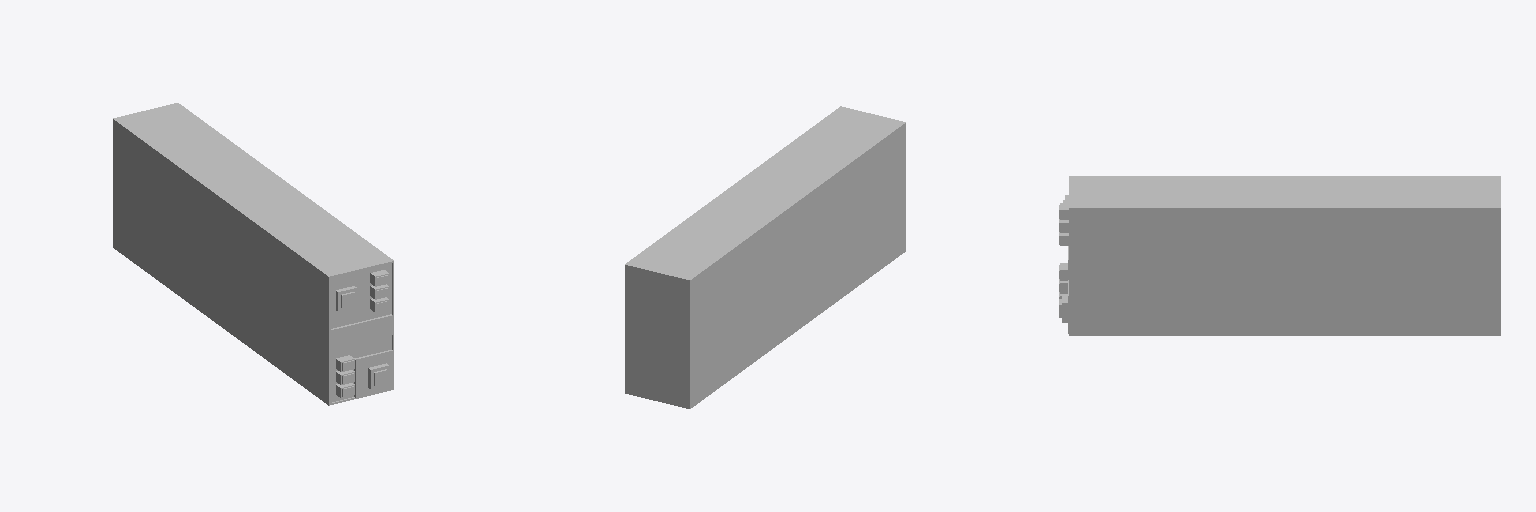
File: PlayBuilding_5.obj
3 views of the same model, side by side, from view 1: azimuth 30°, elevation 25°; view 2: azimuth 150°, elevation 25°; view 3: azimuth 270°, elevation 25° (orthographic).
Parts seen in each view (by area): view 1: 立方体.001; view 2: 立方体.001; view 3: 立方体.001.
Boxes of the visible parts, <box> form: 立方体.001: <box>113,103,393,405</box>; 立方体.001: <box>625,106,905,408</box>; 立方体.001: <box>1059,176,1500,335</box>.
Bounding box in the file's own units: 26.23 × 49.28 × 153.